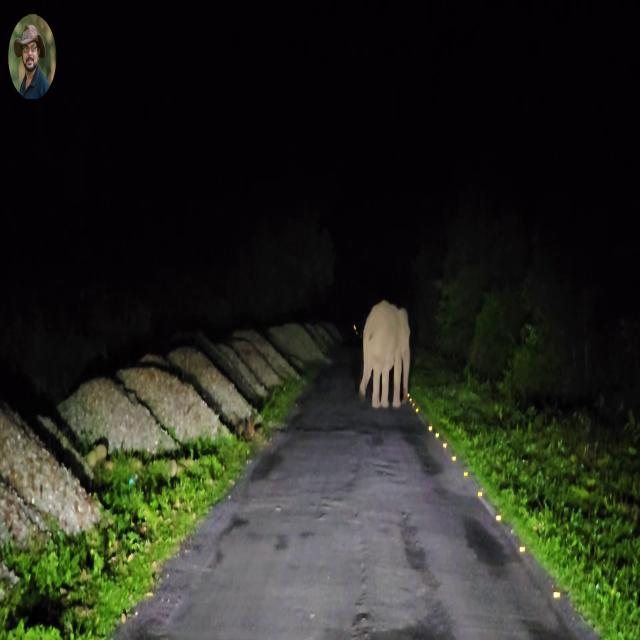Elephant: (358, 299, 411, 409)
